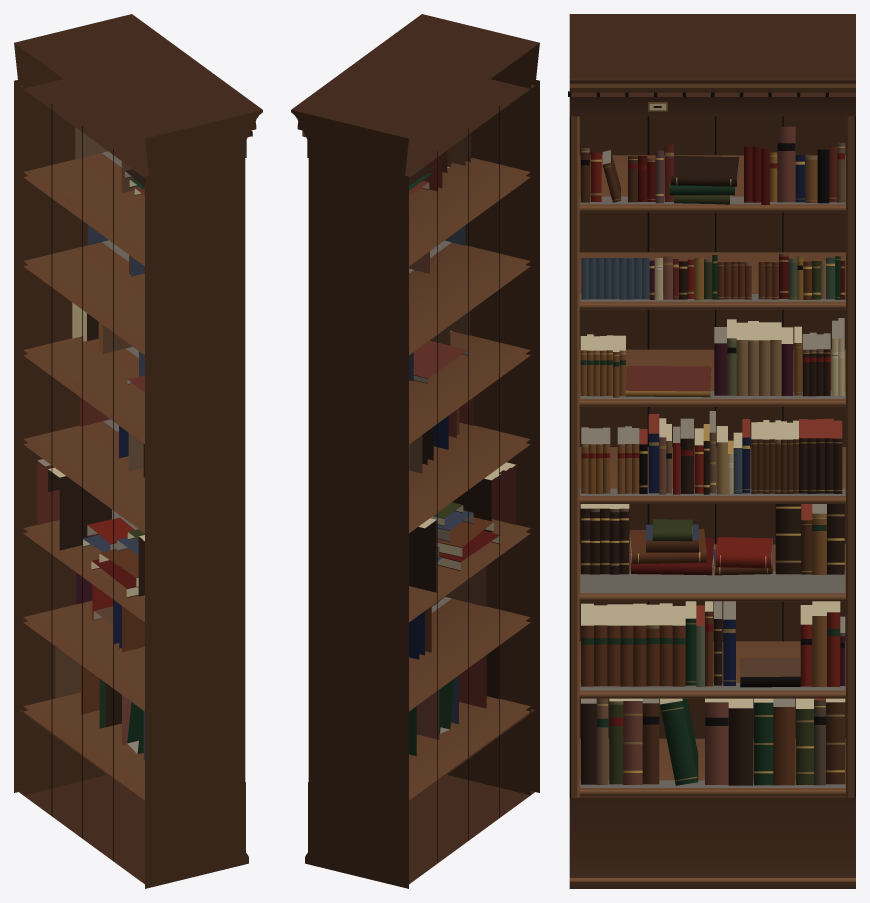
File: bookcase_aisle@1.glb
3 renders of one model, left to right at view 1: azimuth 30°, elevation 25°; view 2: azimuth 150°, elevation 25°; view 3: azimuth 270°, elevation 25°, orthographic. The views are drawn at different scales.
Parts seen in each view (by area): view 1: regal; view 2: regal; view 3: regal.
Part boxes in pixels (<box>): regal: <box>14,14,262,888</box>; regal: <box>291,14,539,888</box>; regal: <box>568,14,855,888</box>.
Bounding box in the file's own units: 0.52 × 3.16 × 1.01.
